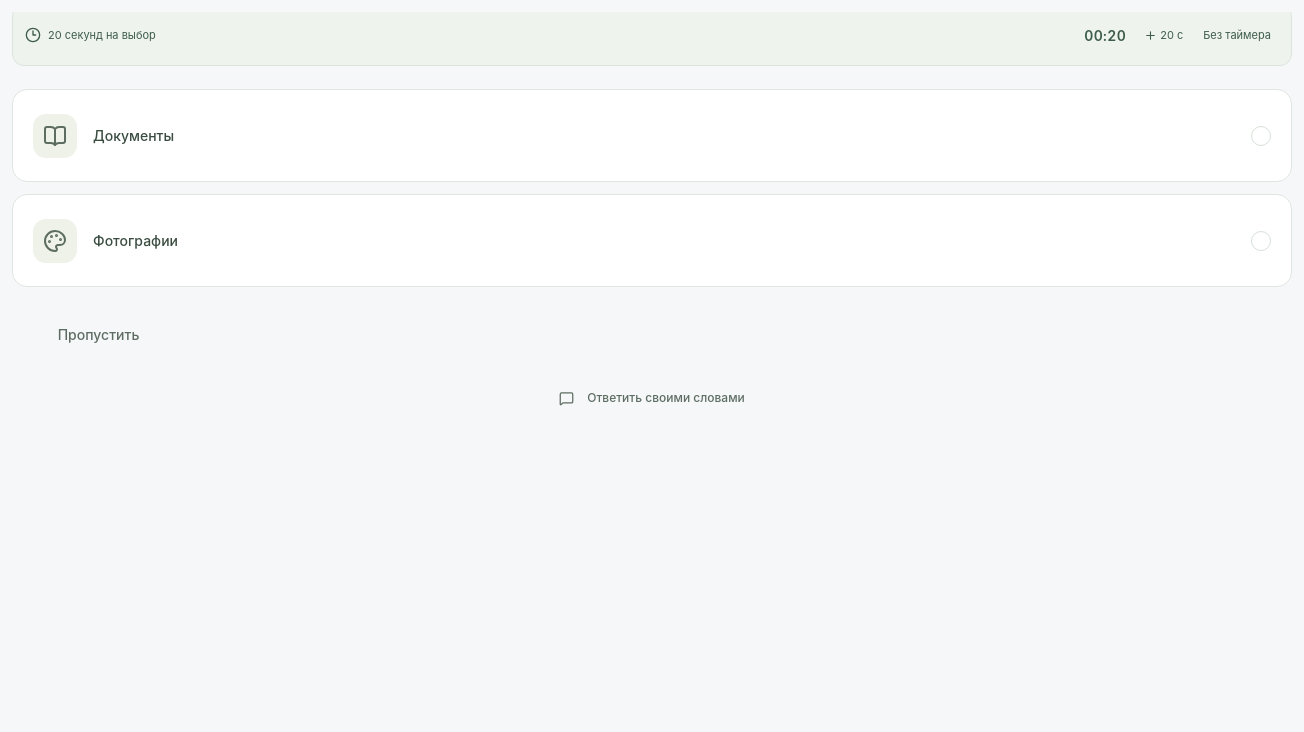
answer timebox › pauses while recording and resumes after cancellation
Click the button "Ответить своими словами" at (652, 398), box [538, 374, 766, 422]
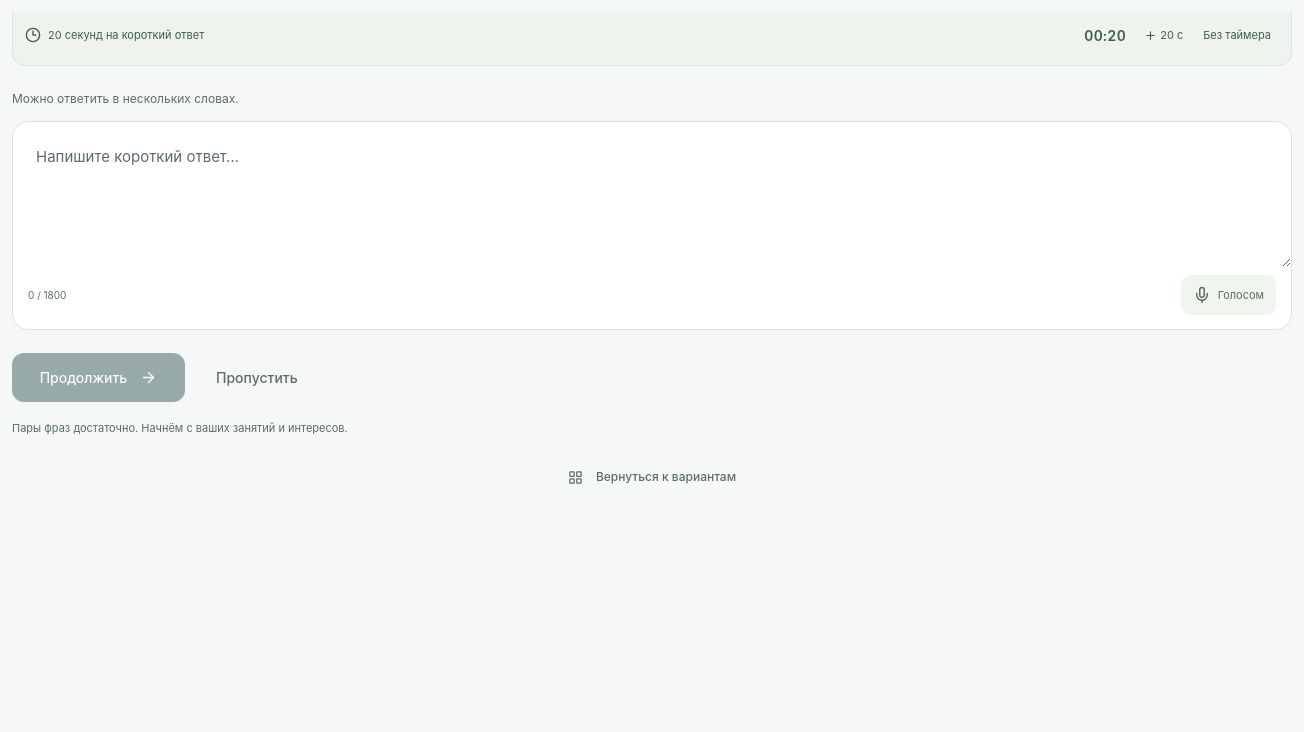
Click the button with aria-label "Записать голосом" at (1228, 295), box [1181, 275, 1276, 315]
Wait 10000 ms
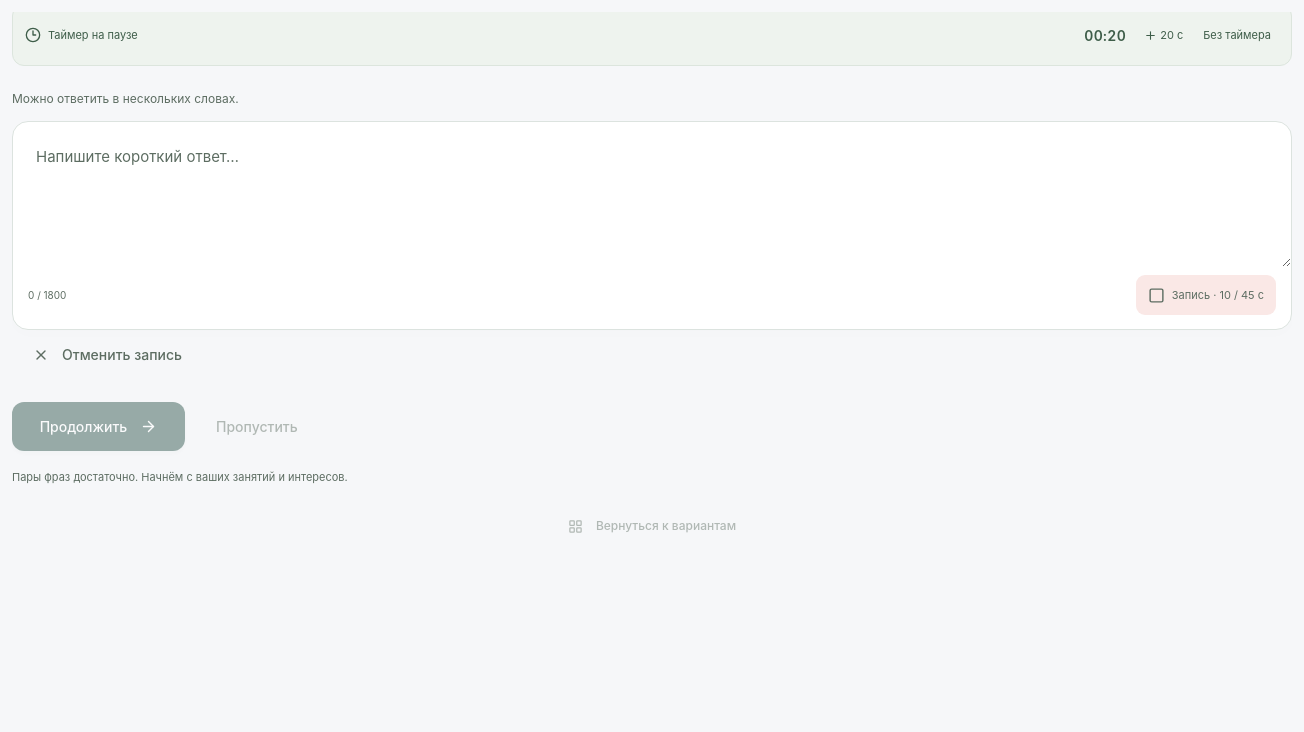
Check: the text "00:20" is shown, box [1084, 24, 1126, 46]
Check: the text "Таймер на паузе" is shown, box [48, 27, 138, 43]
Click the button "Отменить запись" at (108, 355), box [12, 330, 203, 379]
Wait 1000 ms
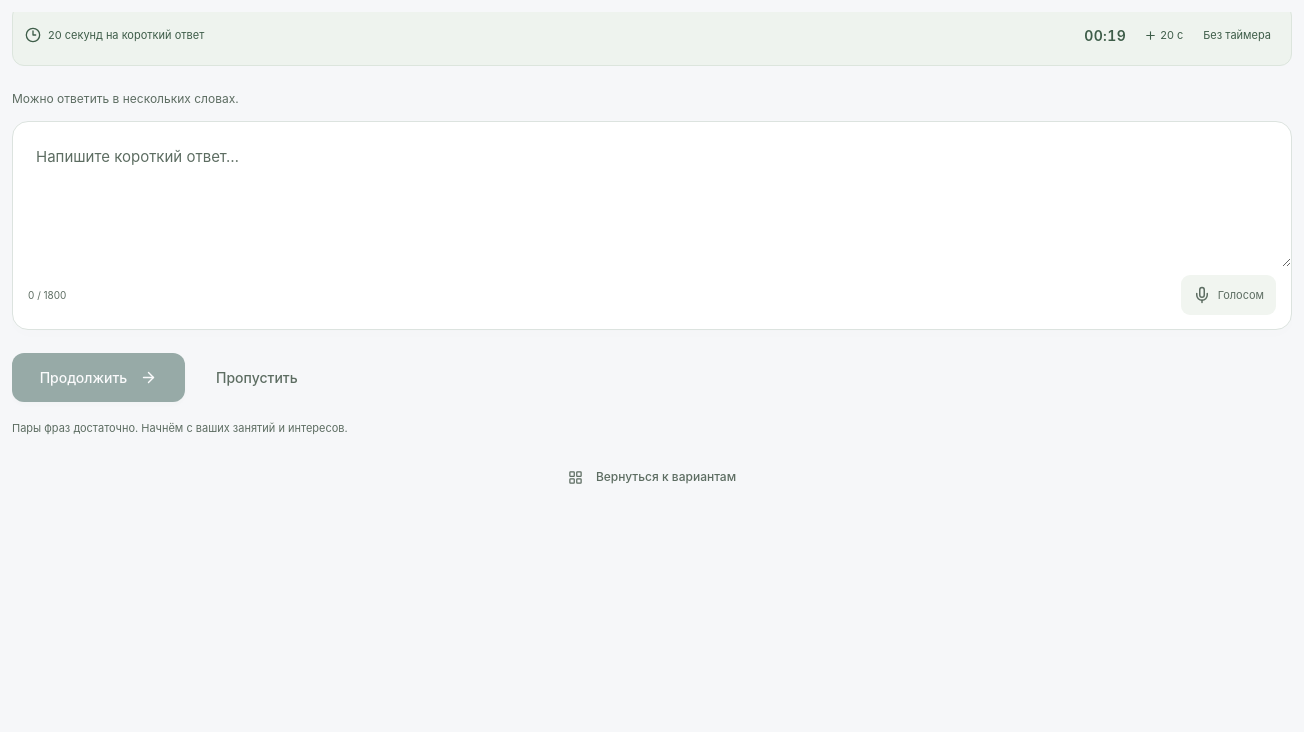
Check: the text "00:19" is shown, box [1084, 24, 1126, 46]
